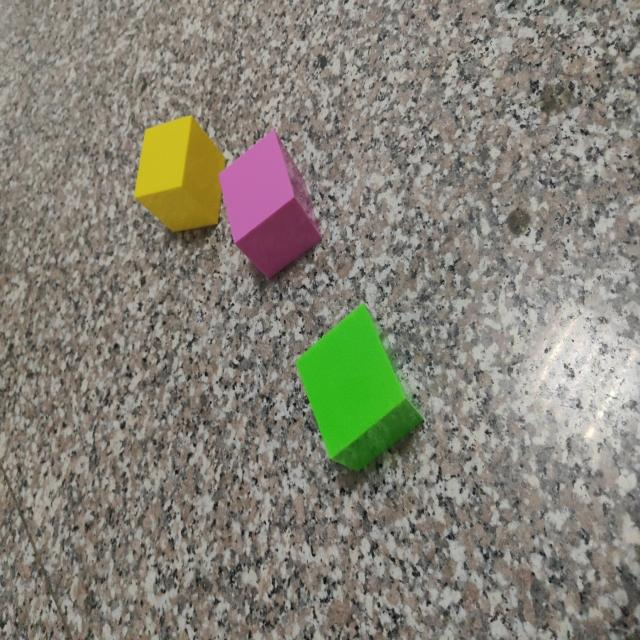green: (293, 305, 423, 472)
pink: (219, 133, 322, 281)
yellow: (133, 116, 226, 235)
